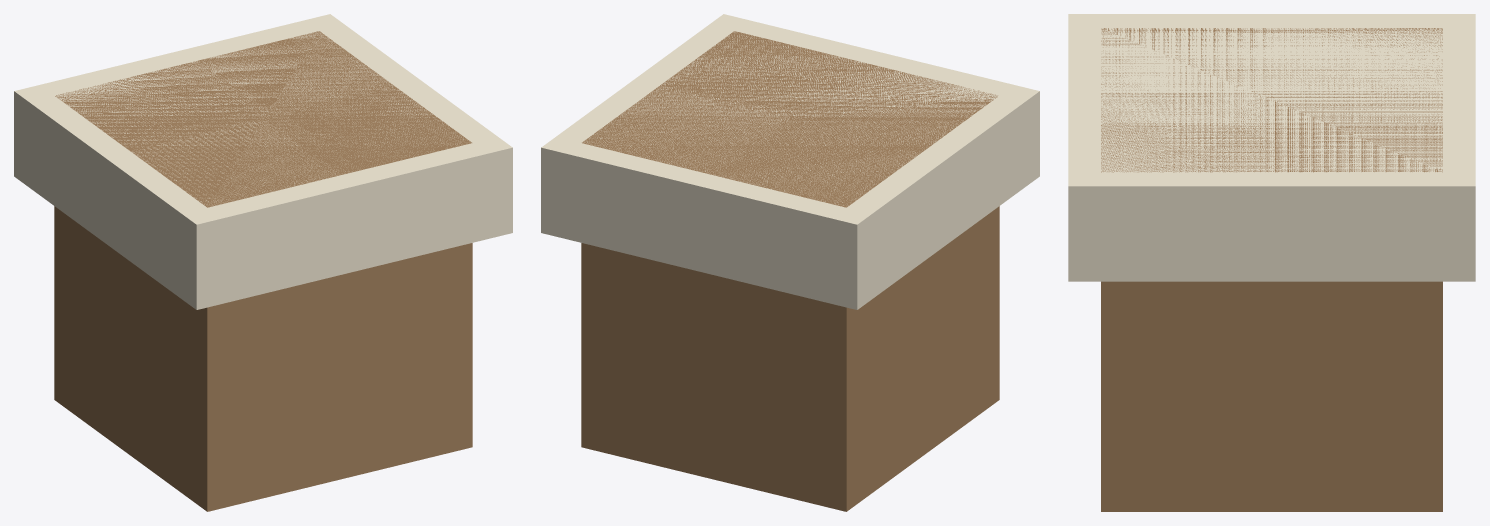
File: viking_peles_canela.glb
3 renders of one model, left to right at view 1: azimuth 30°, elevation 25°; view 2: azimuth 150°, elevation 25°; view 3: azimuth 270°, elevation 25°, orthographic. The views are drawn at different scales.
Visible parts, largest first — view 1: viking_peles_canela; view 2: viking_peles_canela; view 3: viking_peles_canela.
Boxes of the visible parts, bbox=[...] form: viking_peles_canela: bbox=[14, 14, 512, 511]; viking_peles_canela: bbox=[541, 14, 1039, 511]; viking_peles_canela: bbox=[1068, 14, 1475, 511].
Size of the model in its own units: 0.31 by 0.285 by 0.31.
